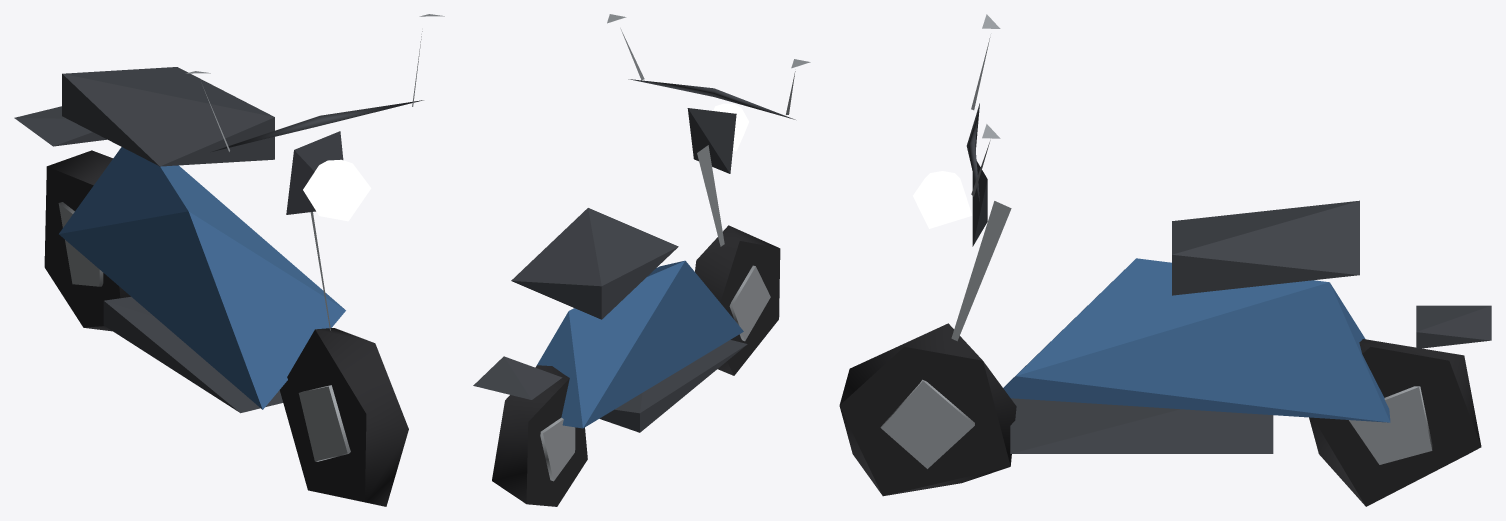
File: prop_street_scooter_a_lod1.glb
3 views of the same model, side by side, from view 1: azimuth 30°, elevation 25°; view 2: azimuth 150°, elevation 25°; view 3: azimuth 270°, elevation 25° (orthographic). The views are drawn at different scales.
Parts seen in each view (by area): view 1: scooter_body_lod1, scooter_frame_lod1, scooter_wheels_lod1; view 2: scooter_frame_lod1, scooter_body_lod1, scooter_wheels_lod1; view 3: scooter_body_lod1, scooter_wheels_lod1, scooter_frame_lod1.
Boxes of the visible parts, left/top/right/bottom form: scooter_body_lod1: left=59, top=147, right=345, bottom=409; scooter_frame_lod1: left=14, top=14, right=444, bottom=413; scooter_wheels_lod1: left=44, top=150, right=408, bottom=506; scooter_frame_lod1: left=473, top=14, right=810, bottom=432; scooter_body_lod1: left=536, top=260, right=743, bottom=428; scooter_wheels_lod1: left=492, top=225, right=780, bottom=506; scooter_body_lod1: left=1003, top=258, right=1390, bottom=422; scooter_wheels_lod1: left=839, top=323, right=1481, bottom=506; scooter_frame_lod1: left=913, top=14, right=1491, bottom=453.
Size of the model in its own units: 0.76 by 1.24 by 1.73.
